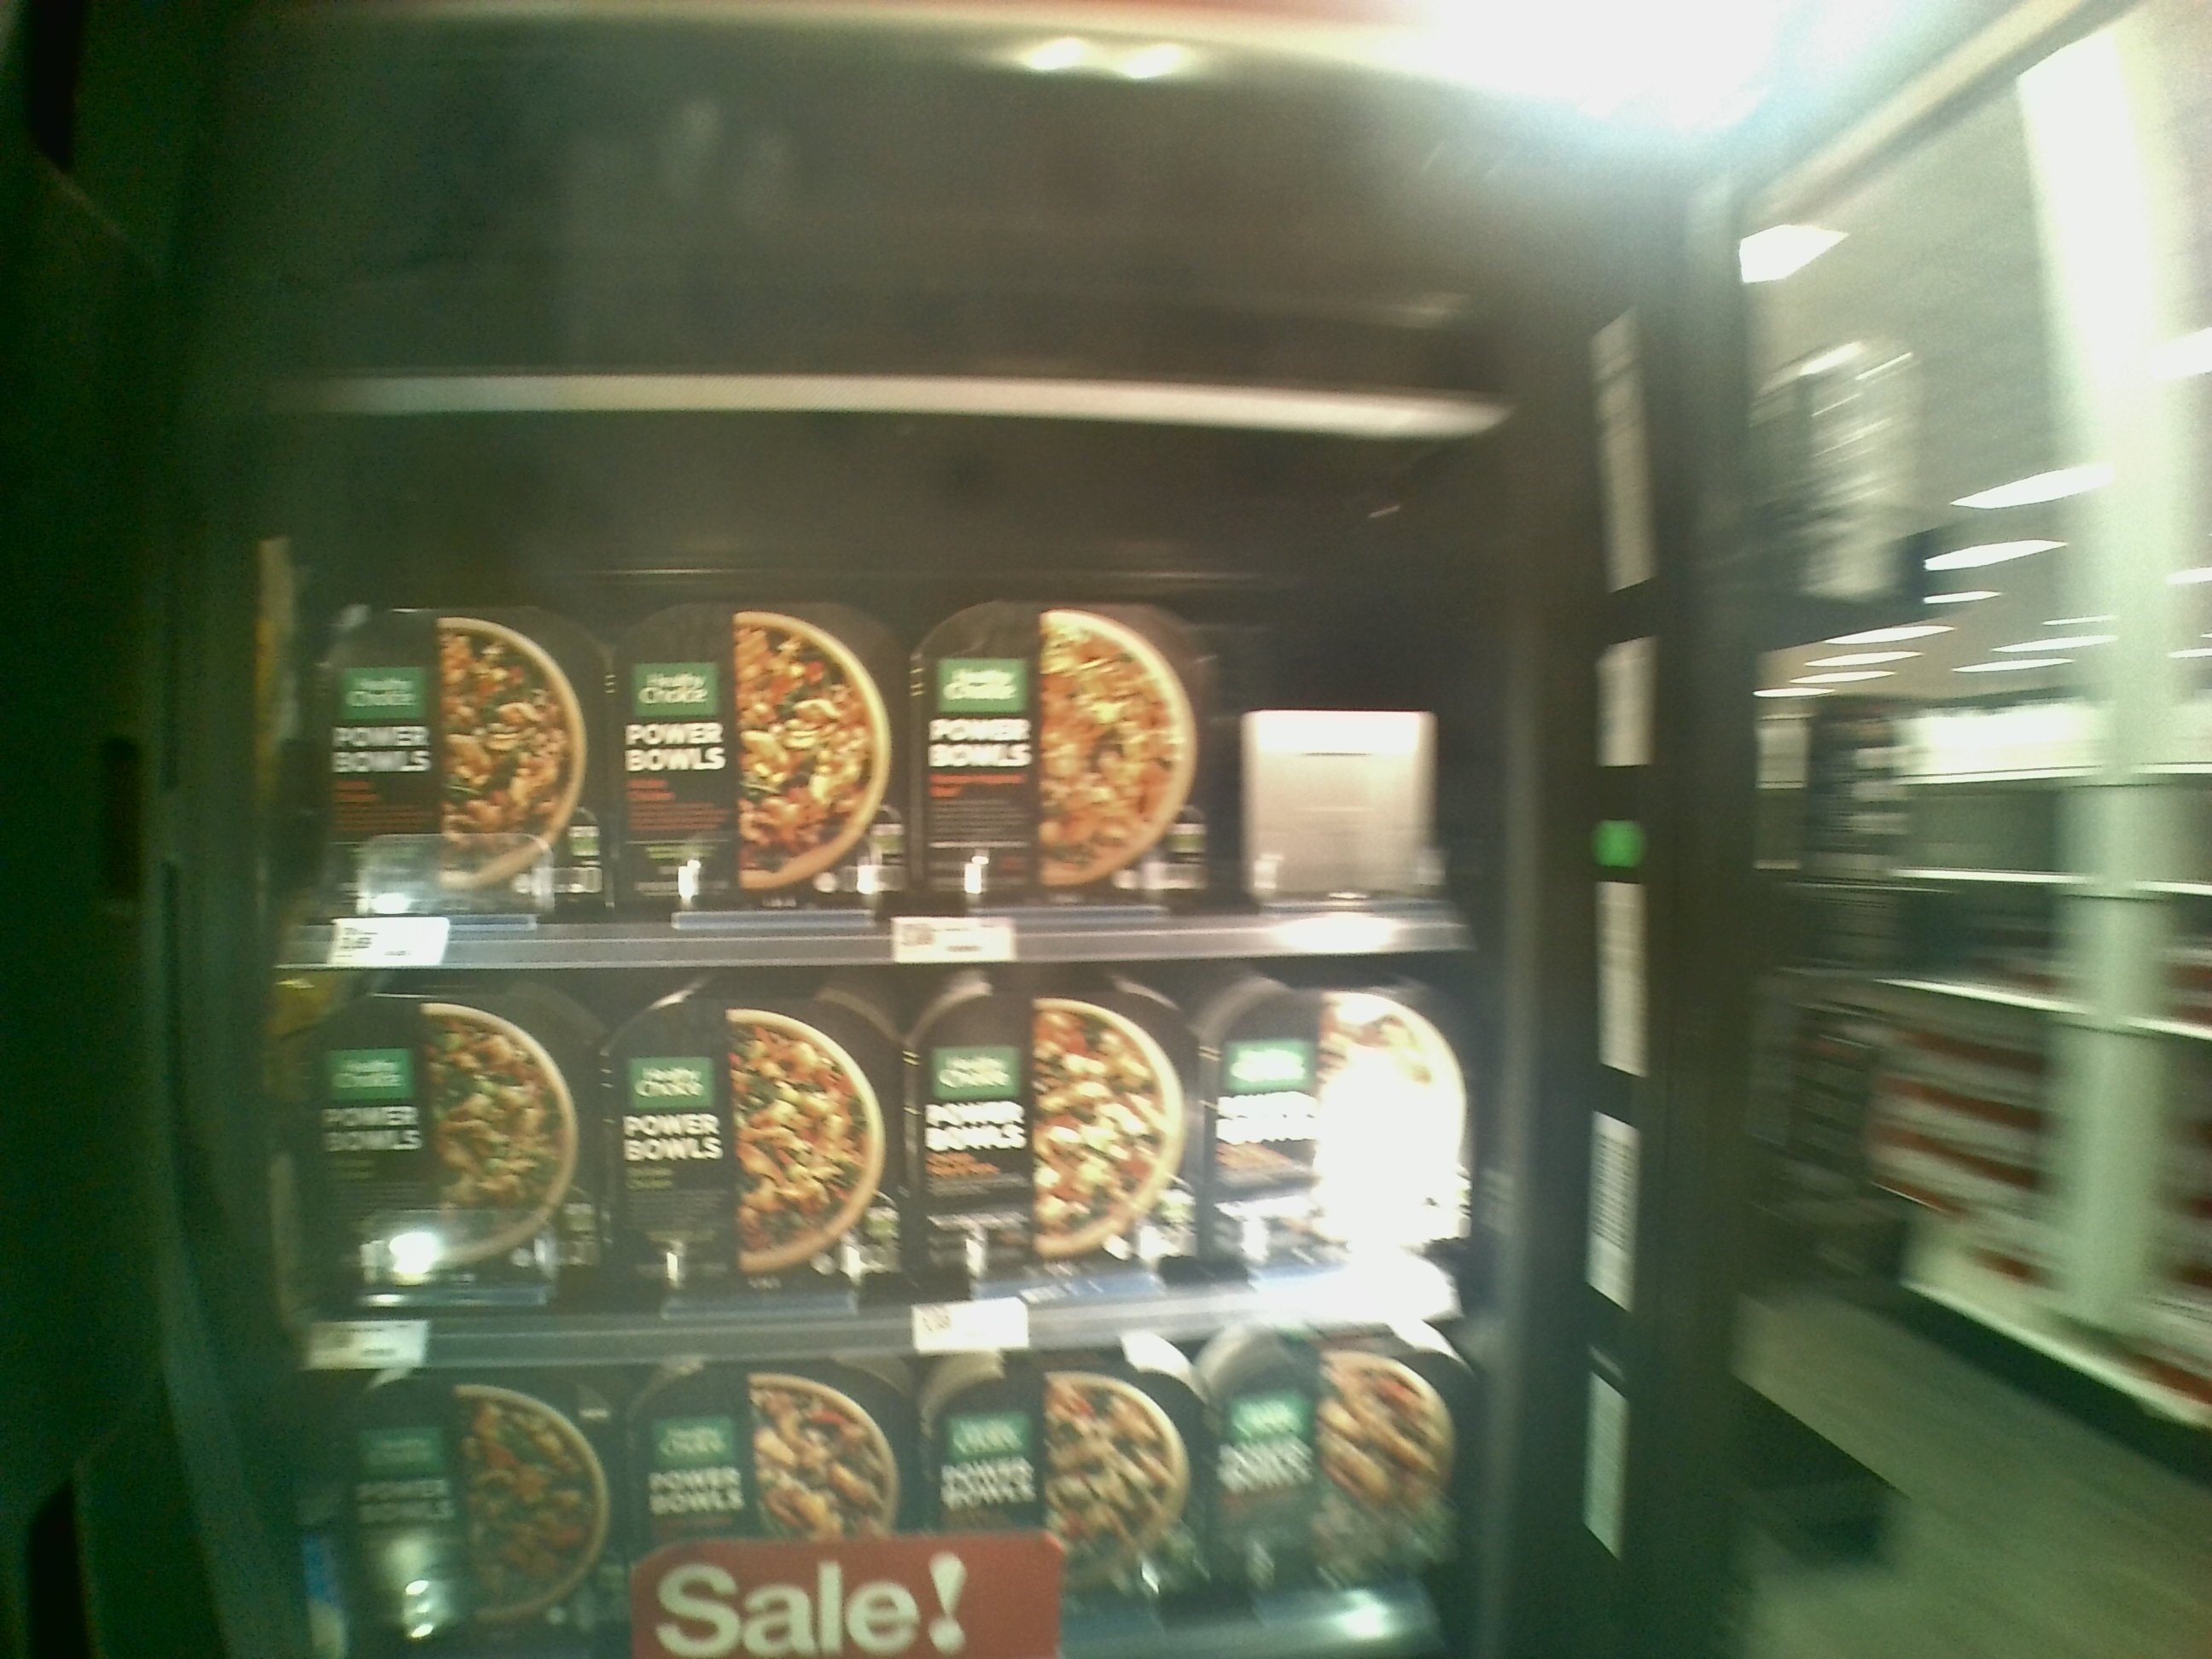shelf: (272, 390, 1475, 962)
